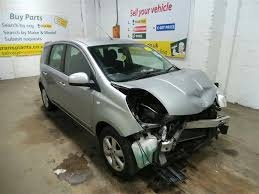Broken-glass: (126, 99, 165, 129)
Dent: (187, 86, 211, 104)
Smashed: (133, 89, 232, 181)
